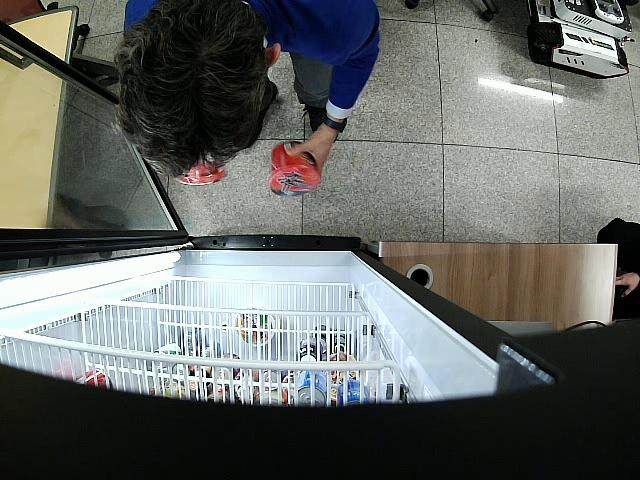00_hand: (286, 132, 331, 173)
01_shinRamen_L: (267, 140, 320, 198), (174, 154, 228, 185)
